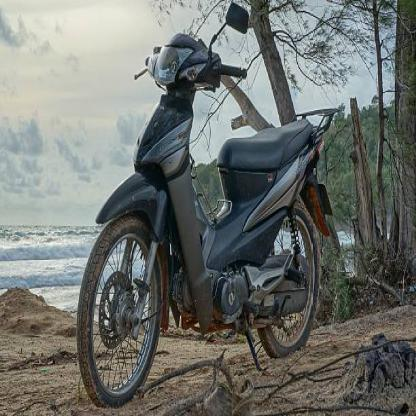Motorcycle: (68, 0, 339, 415)
